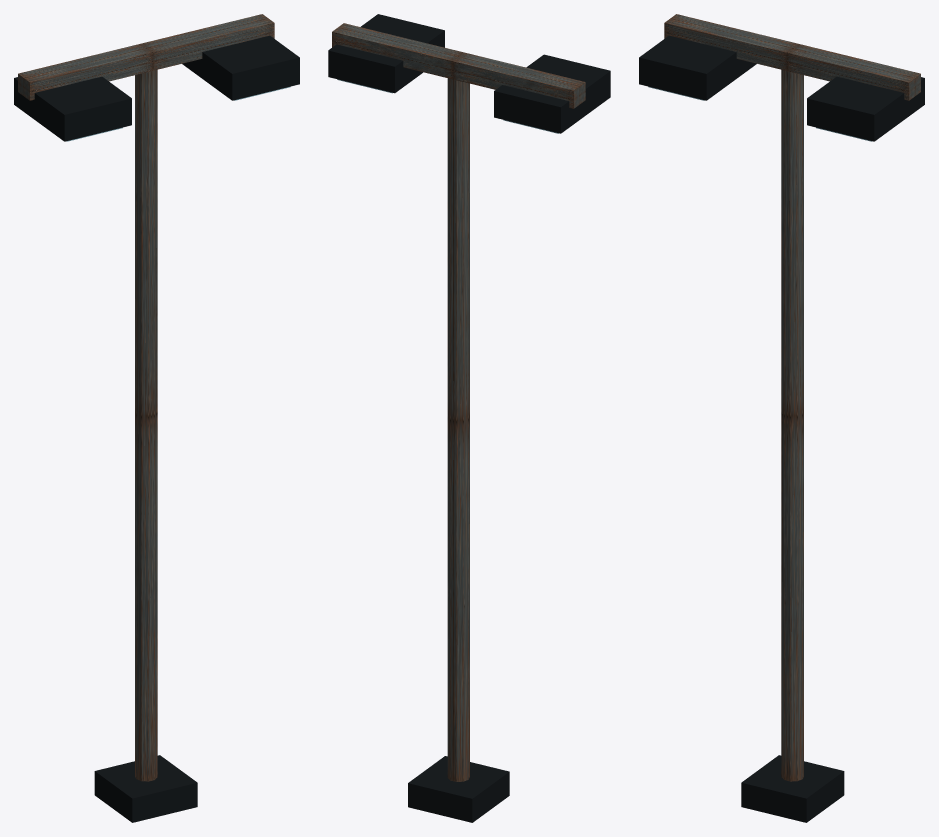
The model's file is Floodlight.obj.
The picture shows the model from 3 angles, left to right: view 1: azimuth 30°, elevation 25°; view 2: azimuth 150°, elevation 25°; view 3: azimuth 330°, elevation 25°; orthographic projection.
Visible parts, largest first — view 1: Floodlight; view 2: Floodlight; view 3: Floodlight.
Boxes of the visible parts, <box> form: Floodlight: <box>14,14,299,822</box>; Floodlight: <box>328,14,610,822</box>; Floodlight: <box>639,14,924,822</box>.
Size of the model in its own units: 2.1 by 6.18 by 0.815.
Materials: 3 (1 with a texture image).
